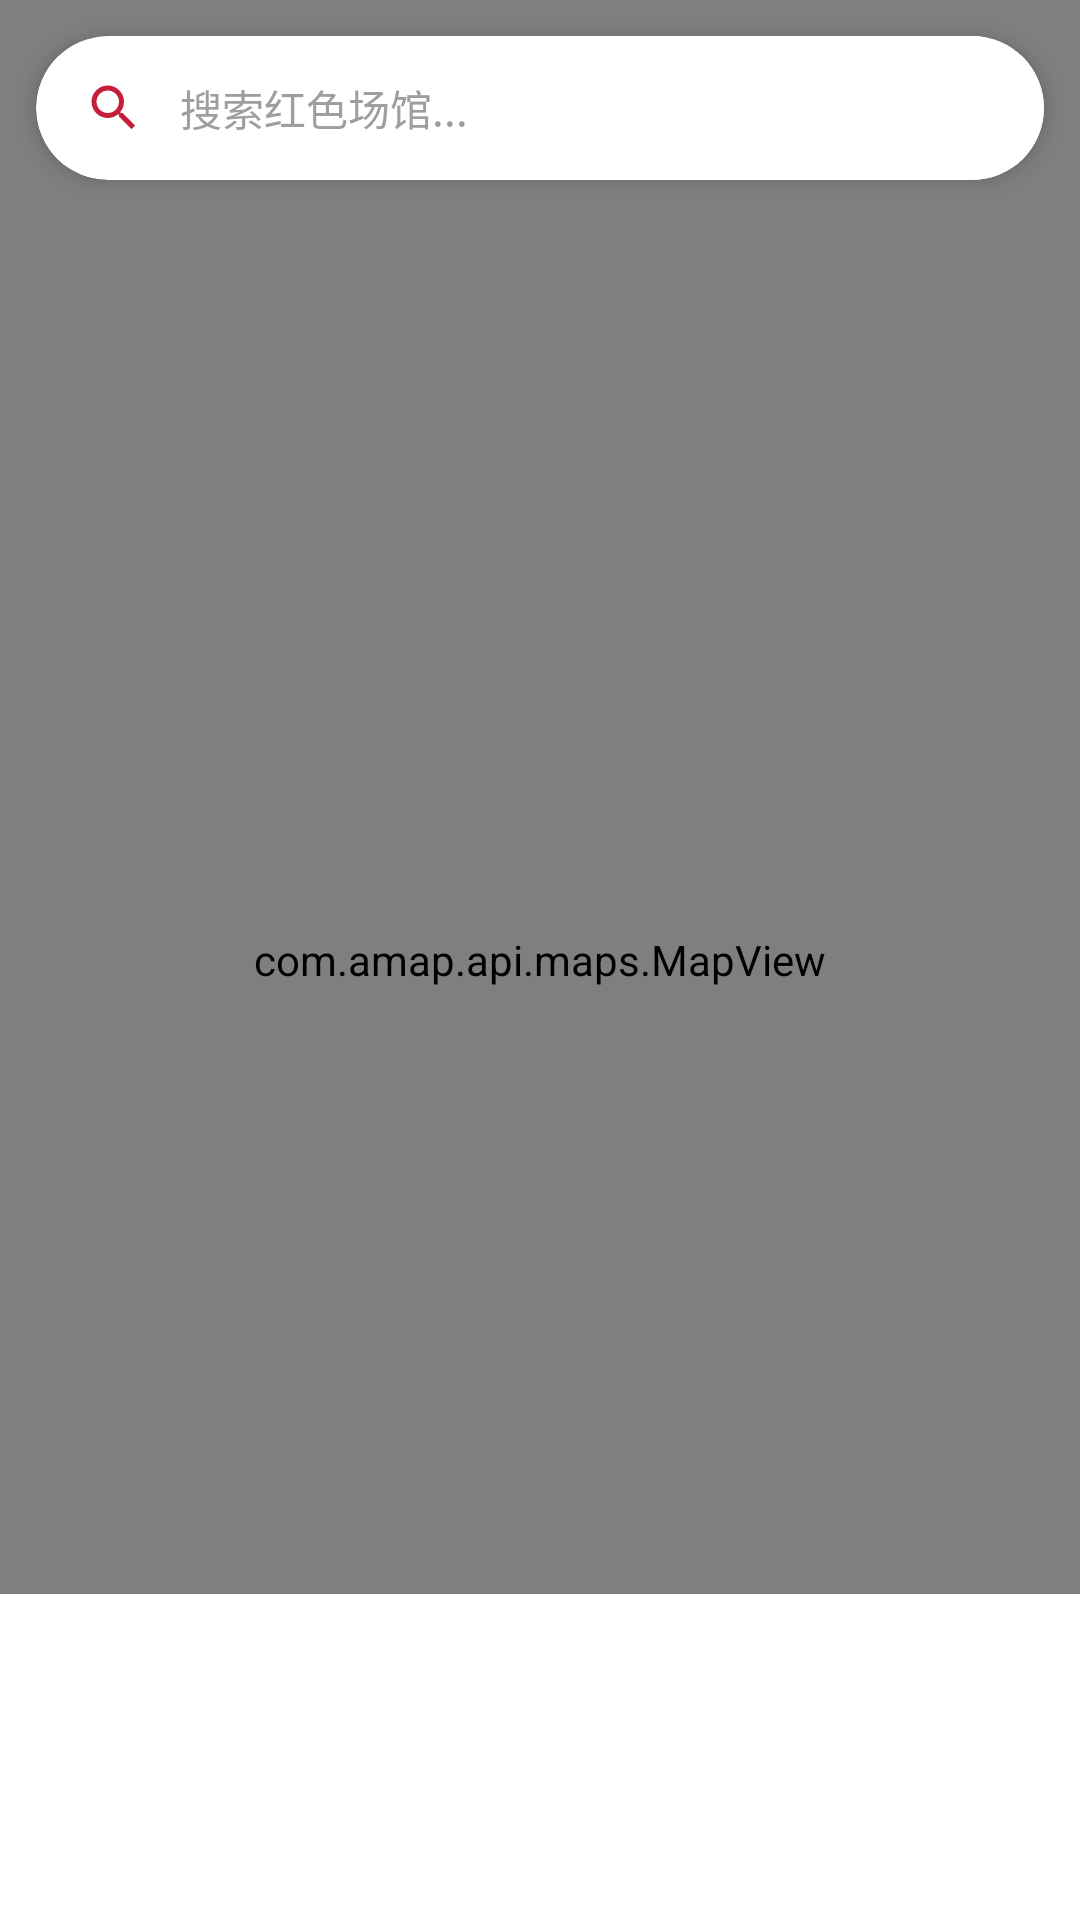

Where icons sit on this 1080px x 1920px app screen, as (x1=x1, y1=y1, x2=x2, y2=y2):
搜索图标: (x1=91, y1=85, x2=135, y2=129)
